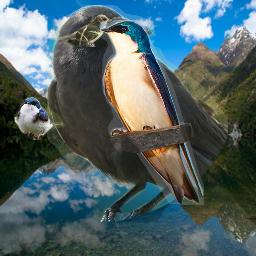Crow: (47, 5, 228, 222)
Cuckoo: (58, 14, 112, 47)
Swallow: (100, 20, 204, 205), (14, 97, 63, 140)
